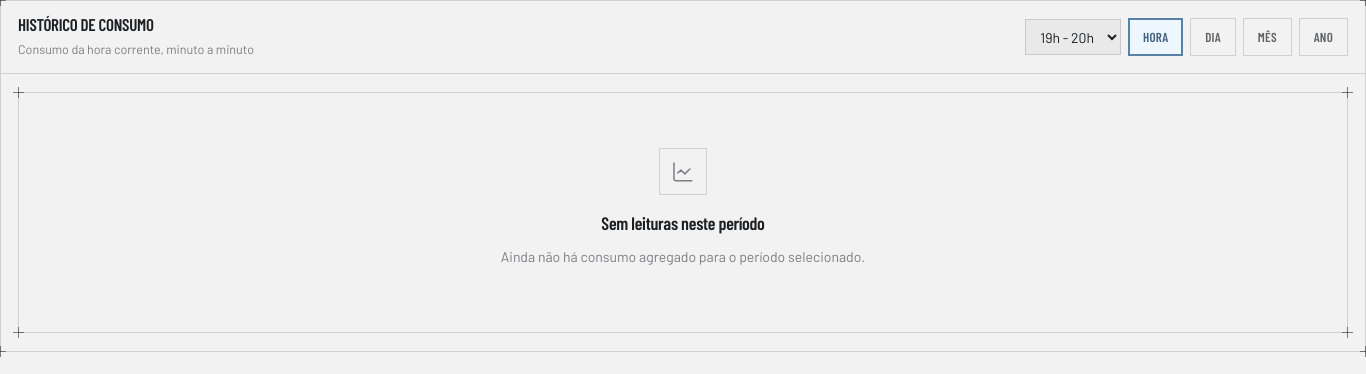
Scenario: ConsumptionSection — título e legenda › legenda cobre Mês e Ano — únicas granularidades extras usadas em /relatorios
This screenshot has width=1366, height=374.
Check: the element with test id "granularity-tabs" is shown, box x1=1128 y1=18 x2=1348 y2=56
What coordinates should you click on to do the following:
click the tab with test id "granularity-tab-month"
I would click on:
 (1267, 37)
Its box is x1=1243 y1=18 x2=1292 y2=56.
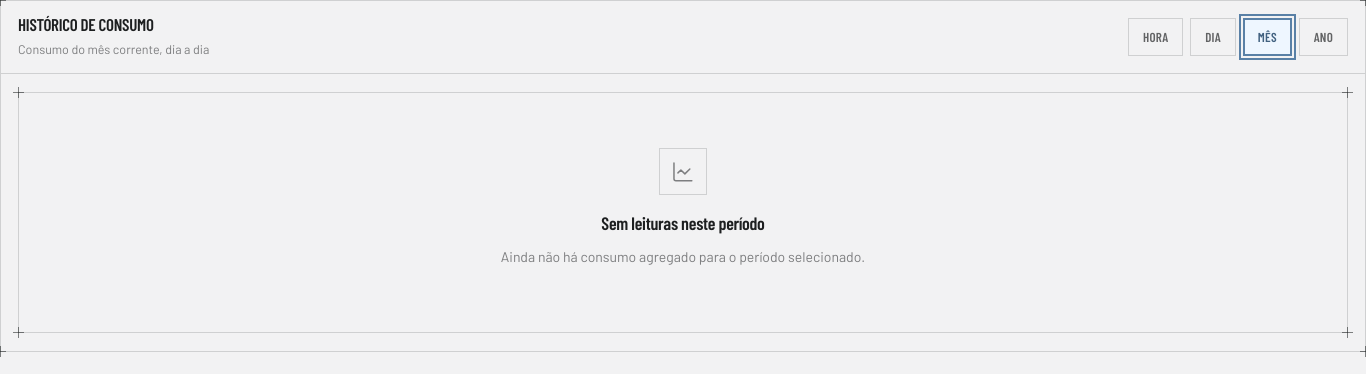
Check: the text "Consumo do mês corrente, dia a dia" is shown, box x1=18 y1=40 x2=209 y2=60
What coordinates should you click on to do the following:
click the tab with test id "granularity-tab-year"
I would click on:
 (1323, 37)
Its box is x1=1299 y1=18 x2=1348 y2=56.
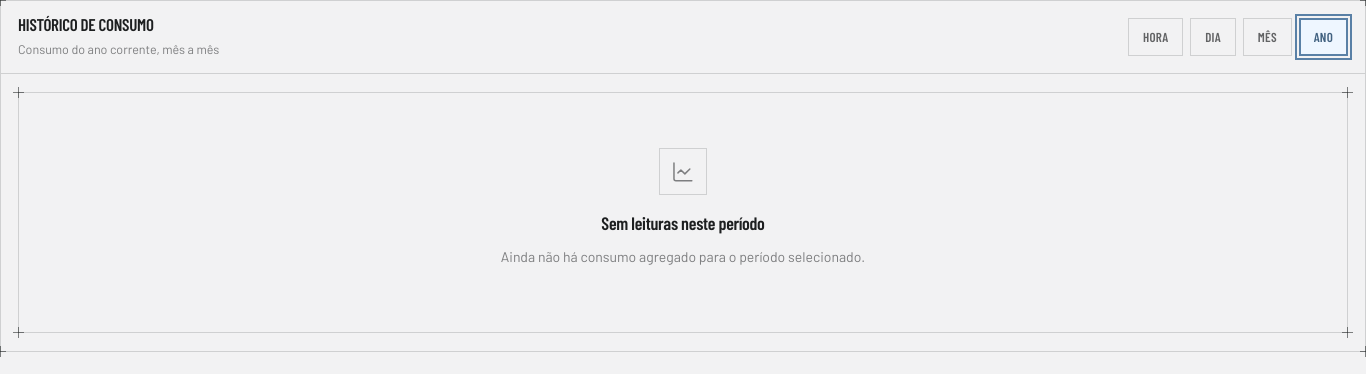
Check: the text "Consumo do ano corrente, mês a mês" is shown, box x1=18 y1=40 x2=219 y2=60
